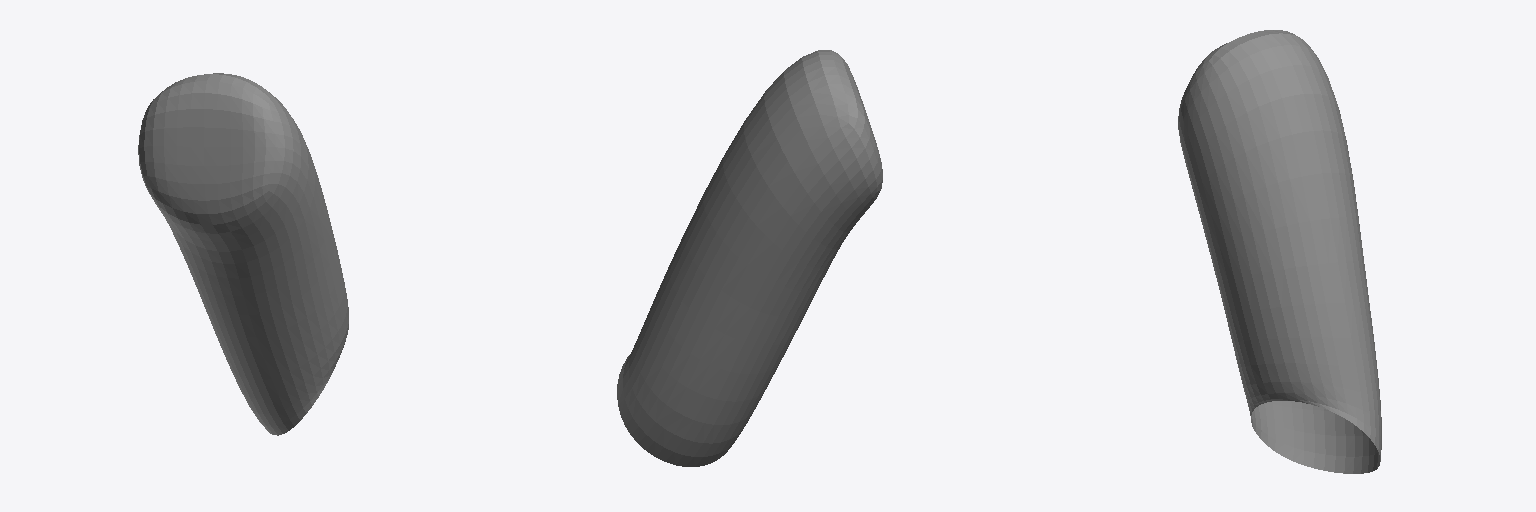
File: antebrazoIzq.obj
The picture shows the model from 3 angles: view 1: azimuth 30°, elevation 25°; view 2: azimuth 150°, elevation 25°; view 3: azimuth 270°, elevation 25°; orthographic projection.
Visible parts, largest first — view 1: antebrazoIzq; view 2: antebrazoIzq; view 3: antebrazoIzq.
Part boxes in pixels (left/top/right/bottom): antebrazoIzq: left=138, top=73, right=348, bottom=435; antebrazoIzq: left=617, top=50, right=882, bottom=466; antebrazoIzq: left=1178, top=30, right=1381, bottom=473.
Size of the model in its own units: 0.7648 by 1.31 by 0.6112.